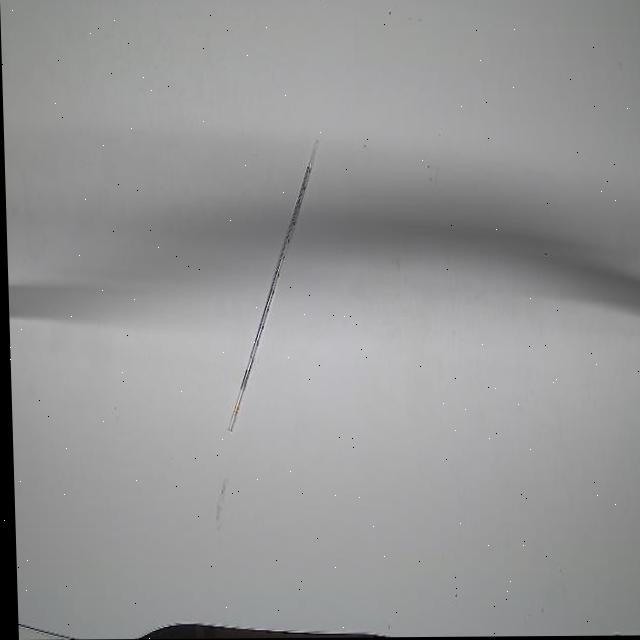Serelogical Pipet 10 mL: (217, 134, 335, 438)
